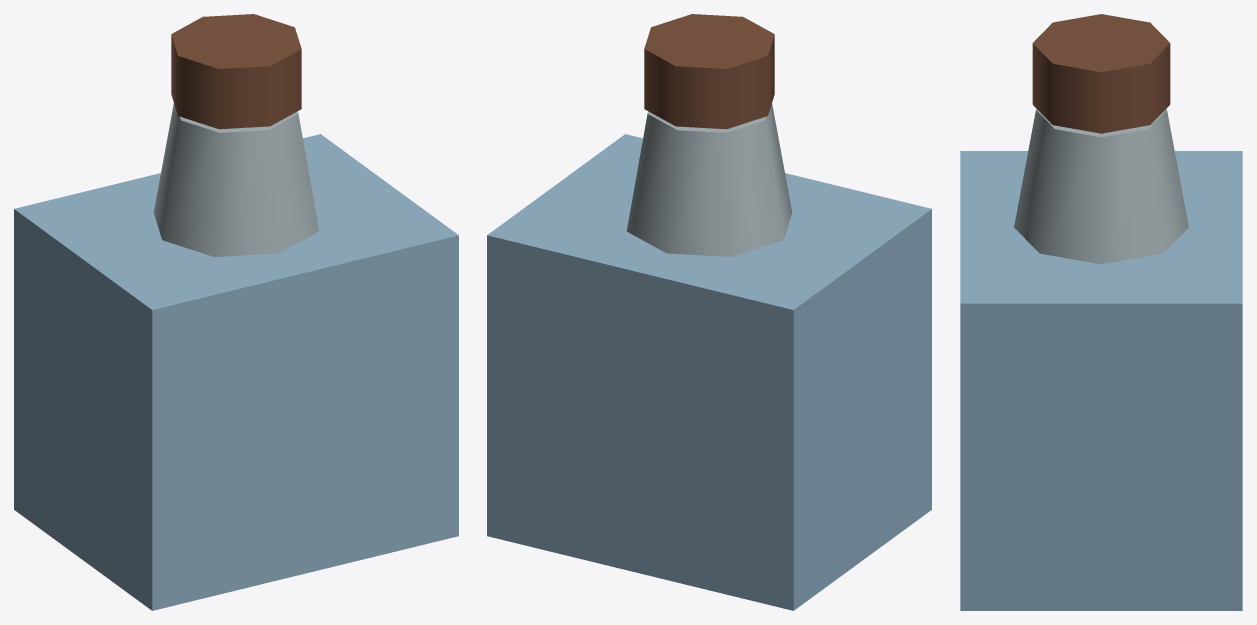
File: potion-4.glb
3 renders of one model, left to right at view 1: azimuth 30°, elevation 25°; view 2: azimuth 150°, elevation 25°; view 3: azimuth 270°, elevation 25°, orthographic. The views are drawn at different scales.
Parts seen in each view (by area): view 1: piece_whole; view 2: piece_whole; view 3: piece_whole.
Boxes of the visible parts, left/top/right/bottom form: piece_whole: left=14, top=14, right=458, bottom=610; piece_whole: left=487, top=14, right=931, bottom=610; piece_whole: left=960, top=14, right=1242, bottom=610.
Size of the model in its own units: 0.32 by 0.48 by 0.25.
